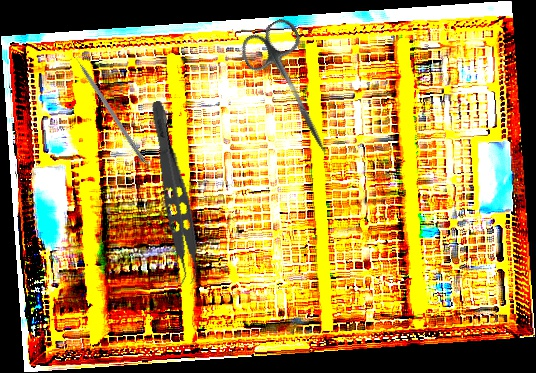Hook Surgical: (66, 44, 147, 164)
Iris Scissors: (235, 14, 354, 166)
Tissue Forceps: (134, 99, 208, 288)
